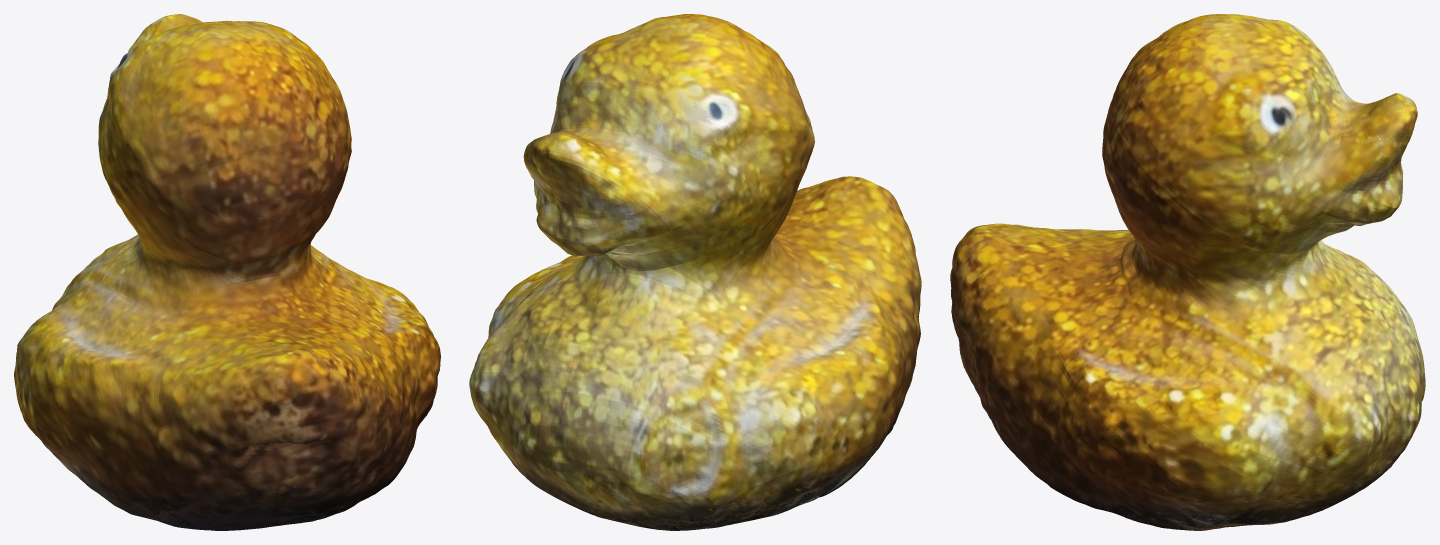
File: linnea_ente.glb
The picture shows the model from 3 angles, left to right: view 1: azimuth 30°, elevation 25°; view 2: azimuth 150°, elevation 25°; view 3: azimuth 270°, elevation 25°; orthographic projection. The views are drawn at different scales.
Visible parts, largest first — view 1: 3DModel_Custom; view 2: 3DModel_Custom; view 3: 3DModel_Custom.
Part boxes in pixels (box(x1,y1,x2,y2)): 3DModel_Custom: box(14, 14, 440, 530); 3DModel_Custom: box(469, 14, 921, 530); 3DModel_Custom: box(950, 14, 1425, 530).
Bounding box in the file's own units: 0.8801 × 1.03 × 0.9503.
1 material, 1 textured.
